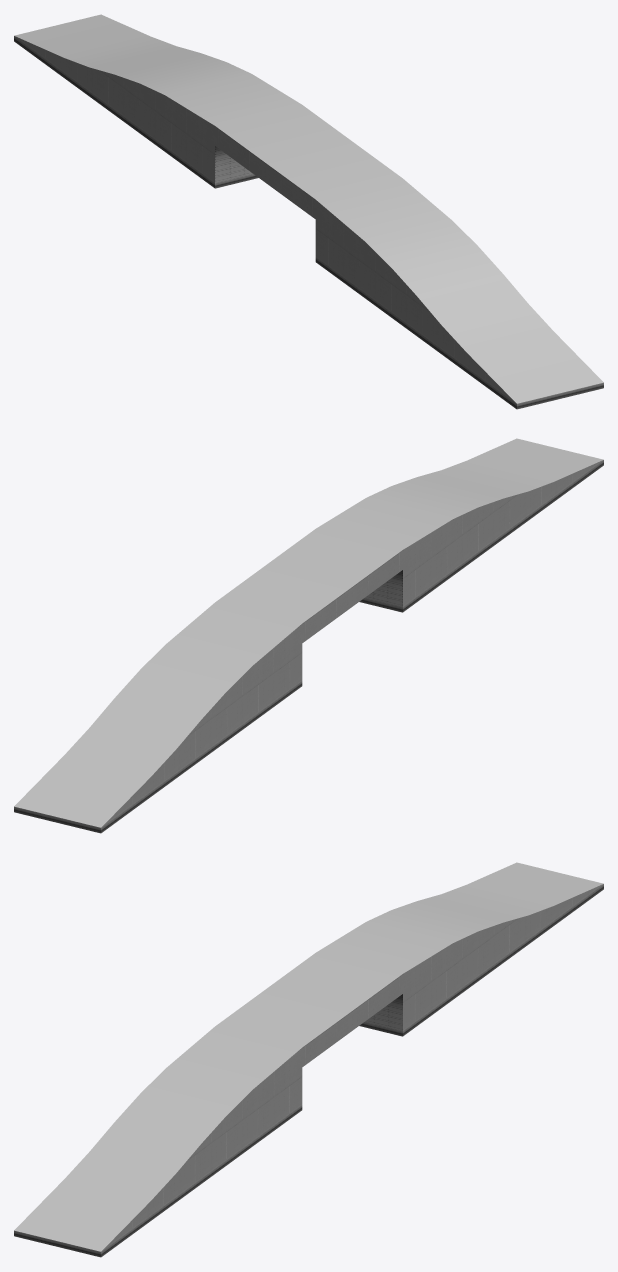
Rendered from TrackBridge02.fbx.
3 views of the same model, one above another, from view 1: azimuth 30°, elevation 25°; view 2: azimuth 150°, elevation 25°; view 3: azimuth 330°, elevation 25° (orthographic).
Visible parts, largest first — view 1: Empty_Mesh; view 2: Empty_Mesh; view 3: Empty_Mesh.
Boxes of the visible parts, x1,y1,x2,y2 form: Empty_Mesh: (14,14,603,409); Empty_Mesh: (14,438,603,833); Empty_Mesh: (14,862,603,1257).
Size of the model in its own units: 1600 by 1100 by 16000.
